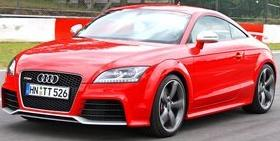front_view: (1, 54, 151, 127)
headlight: (93, 61, 152, 86)
side_glass: (191, 12, 249, 44)
